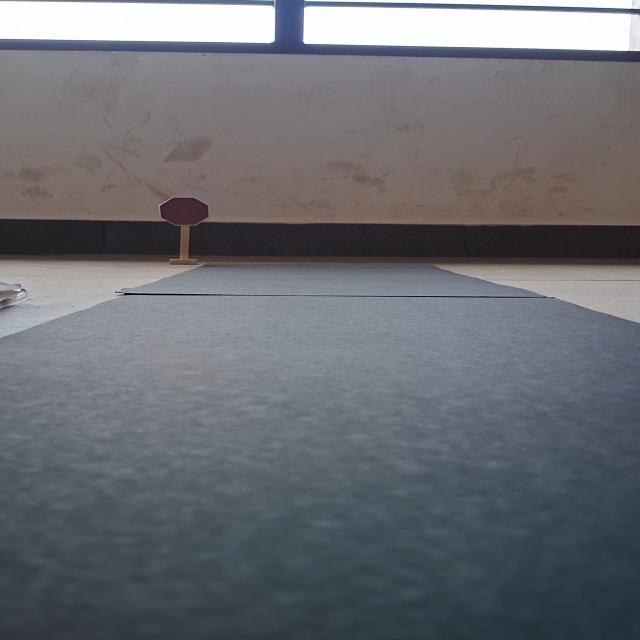Stop: (158, 196, 209, 226)
